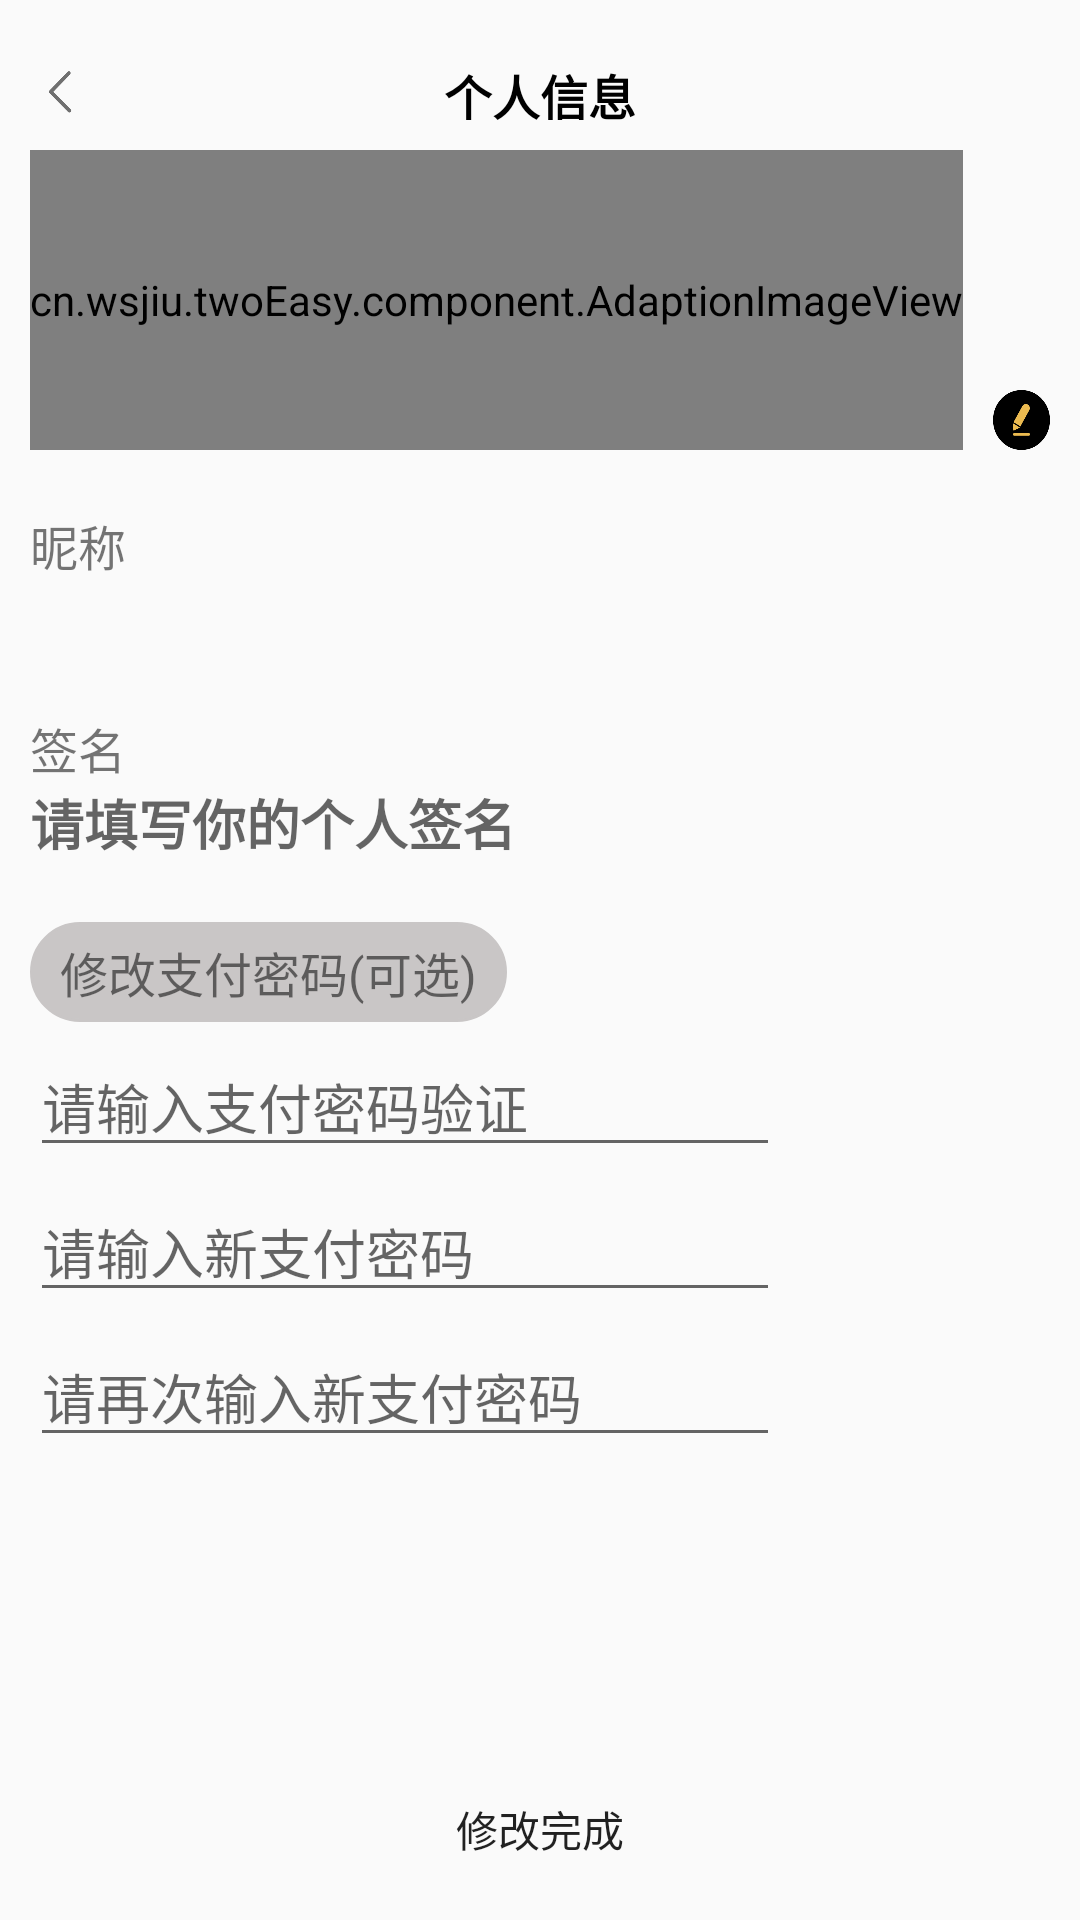

Where to tap for icons on this 1080w x 1920h app screen, as (x=x, y=y):
arrow: (x=60, y=92)
edit: (x=1021, y=420)
